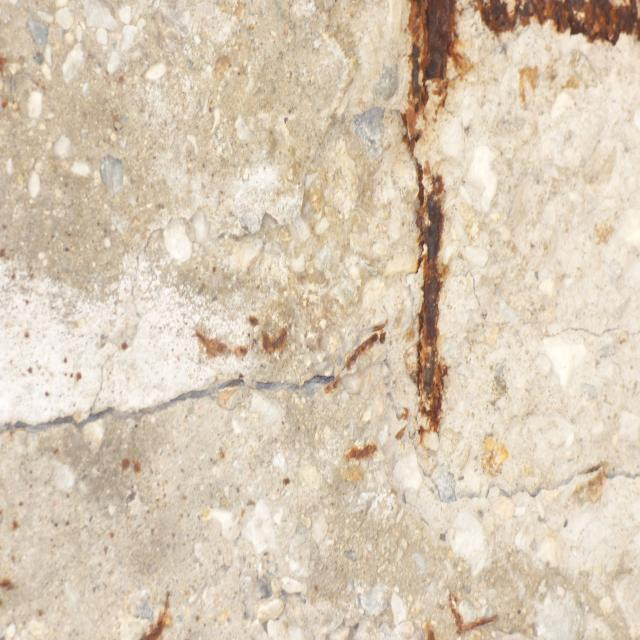corrosion: (0, 261, 609, 640), (376, 0, 640, 457)
